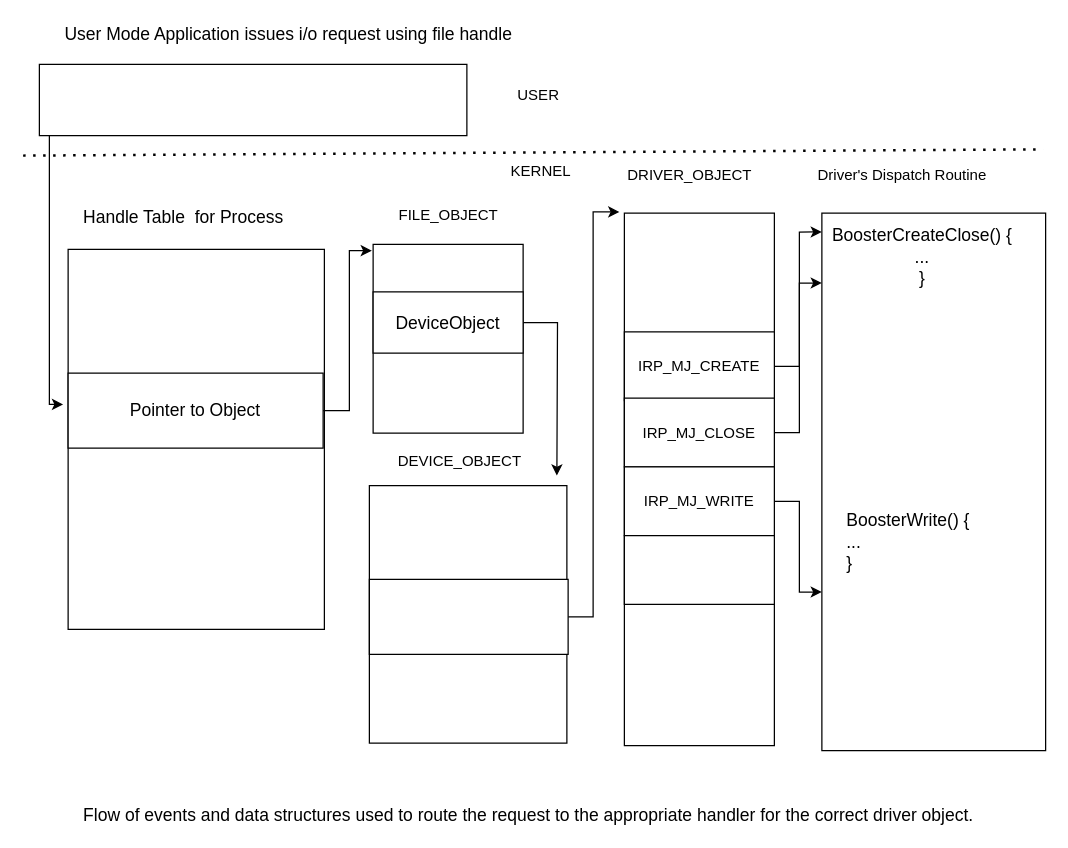
Some shapes in this 1068 by 848 pixel diagram are drawn without their labels. The shapes that lost their labels are listed below. From the top down, each one's centre as x and y in pixels, then its label:
At [252,99]: "WriteFile(Handle, Buffer, Len, &Bytes, ...)".
At [468,616]: "DriverObject".
